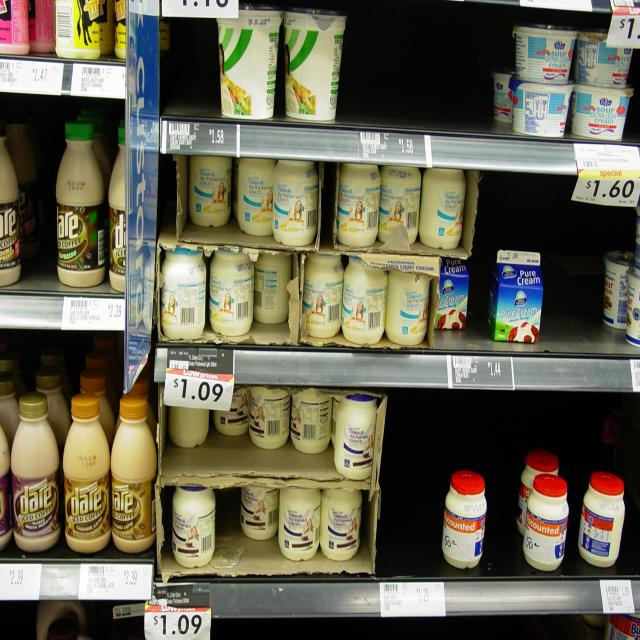empty_space: (357, 17, 490, 123), (394, 407, 438, 570), (552, 206, 596, 342), (488, 425, 520, 567)
